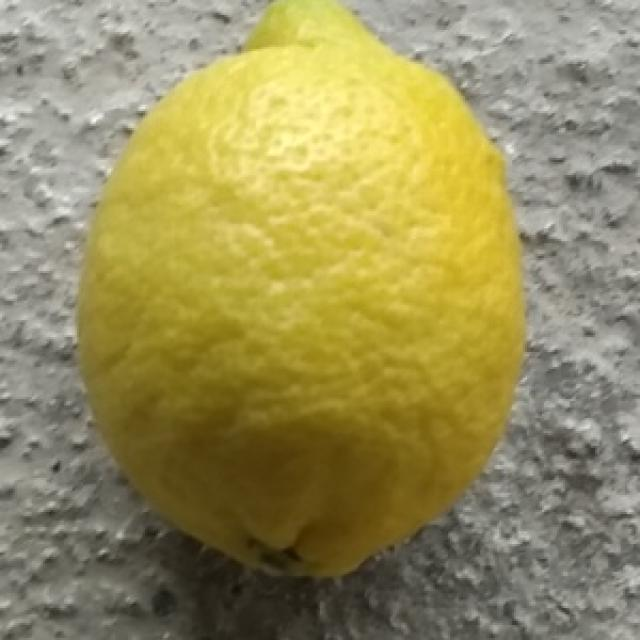Lemon: (76, 0, 528, 583)
